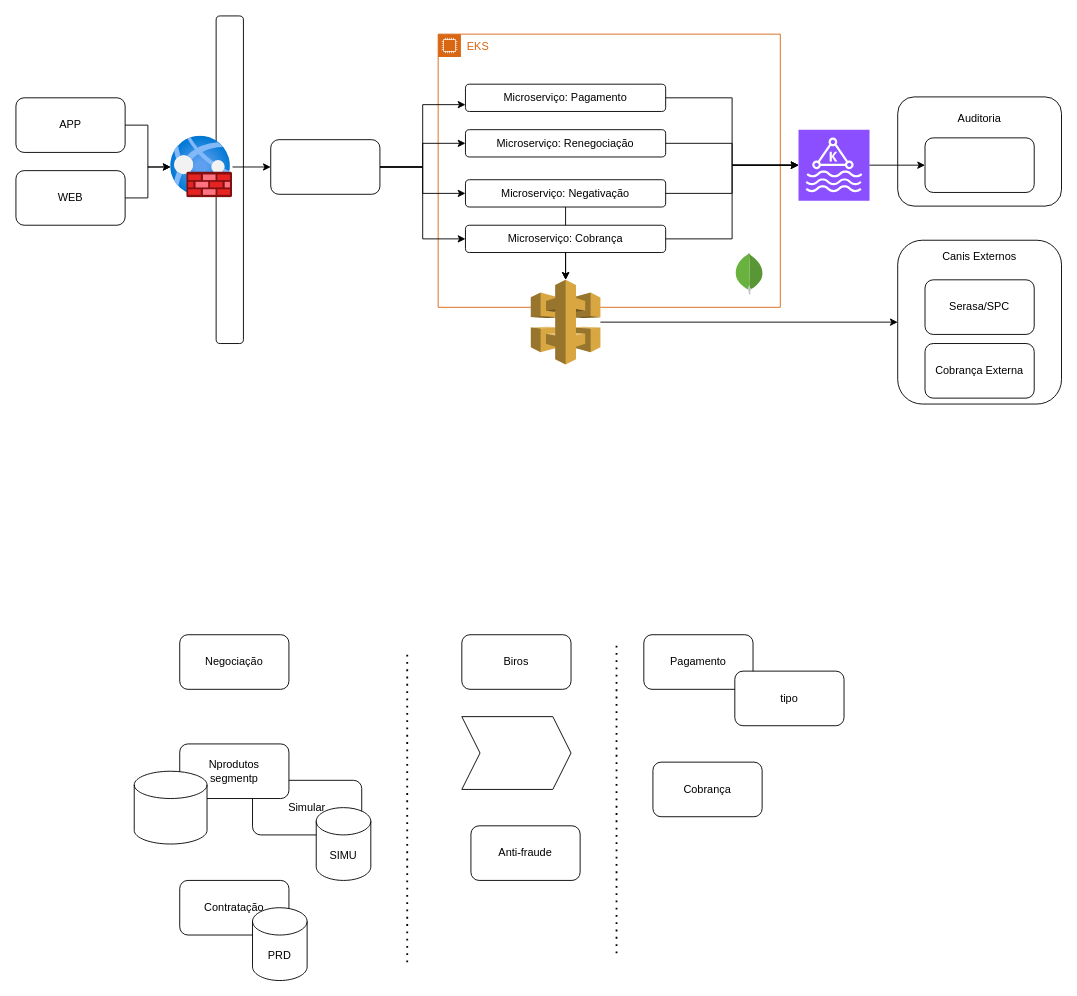
Image size: 1077x996. Some labels were removed from this diagram. The centre of each missing label's shape, as x and y in pixels:
"API Gateway" belongs at pixel 325 166.
"DataLake" belongs at pixel 979 164.
"Inadiplentes" belongs at pixel 170 807.
"Kafka" belongs at pixel 834 165.
"Segmento CNPJ, CPF" belongs at pixel 516 752.
"WAF" belongs at pixel 201 166.
